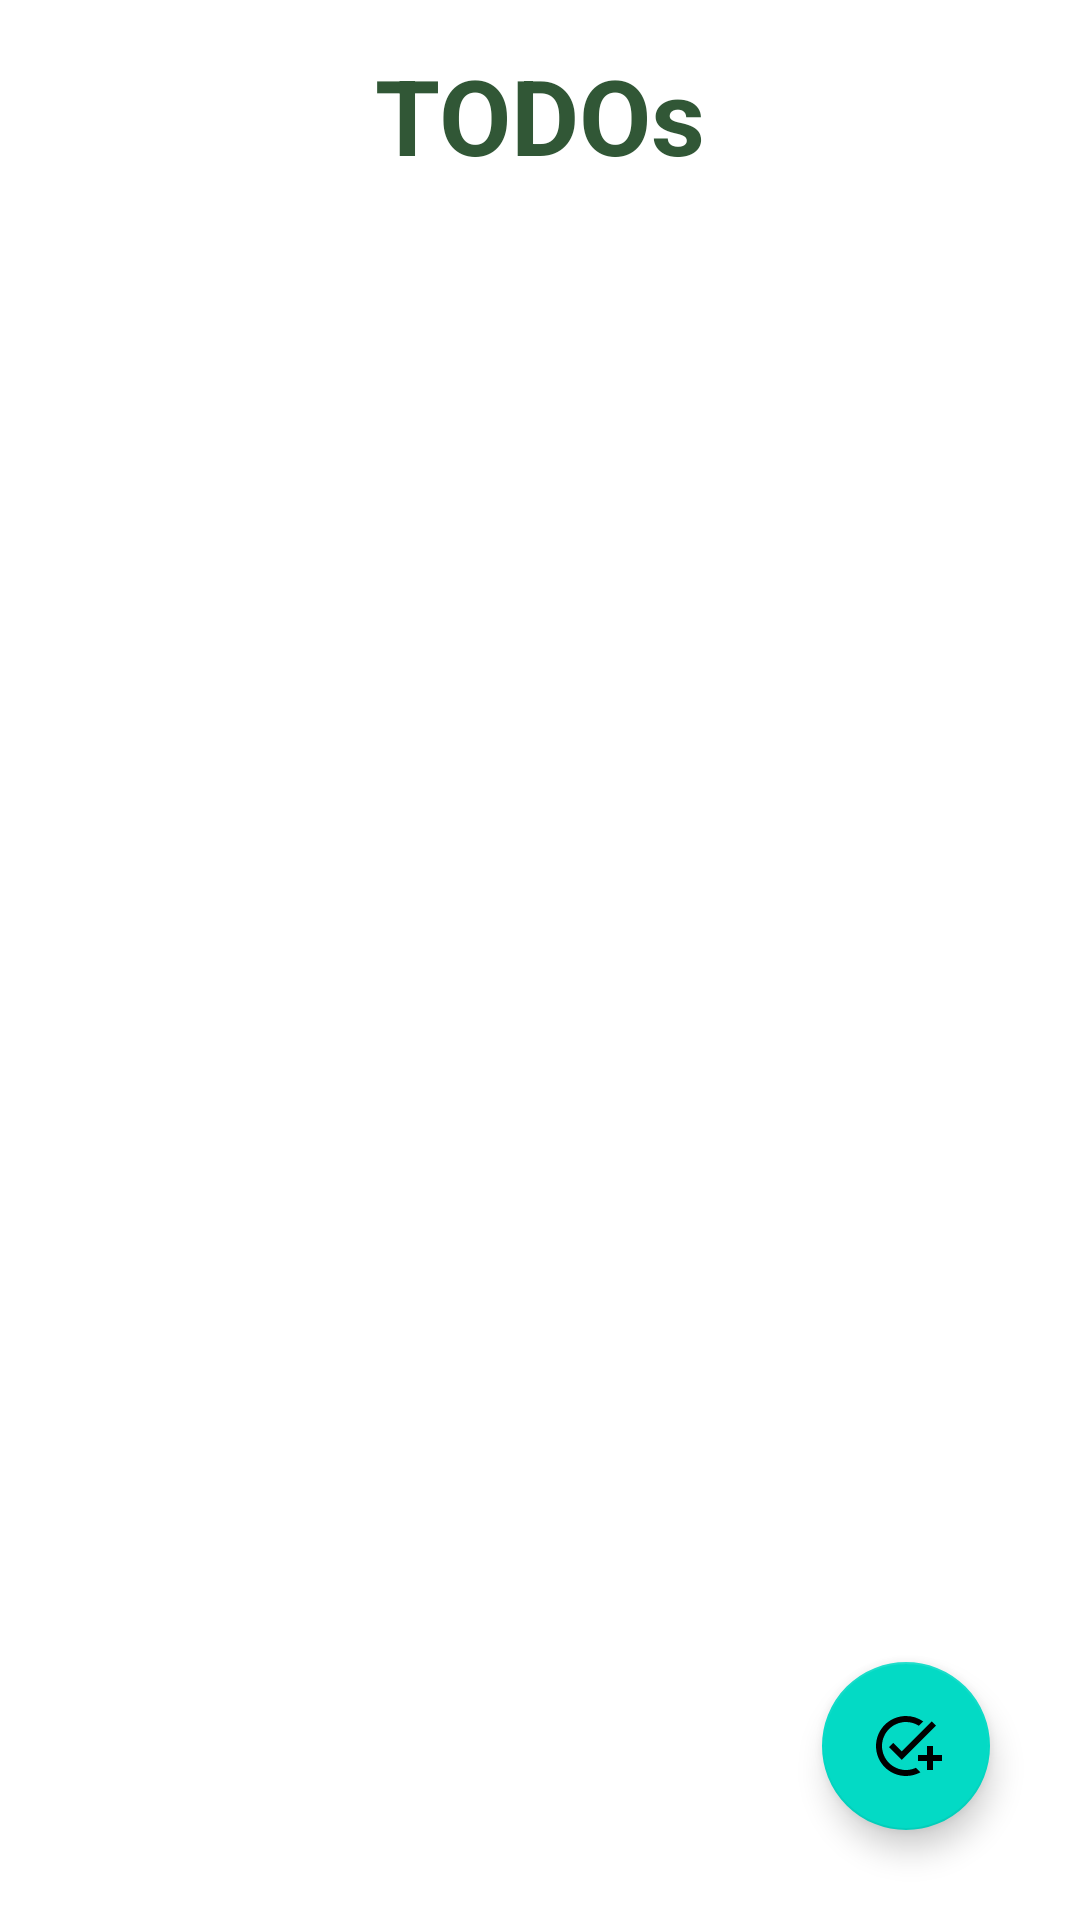

Where to tap for icons on this 1080w x 1920h app screen, as point (x, y):
What's your new TODO: point (906, 1746)
